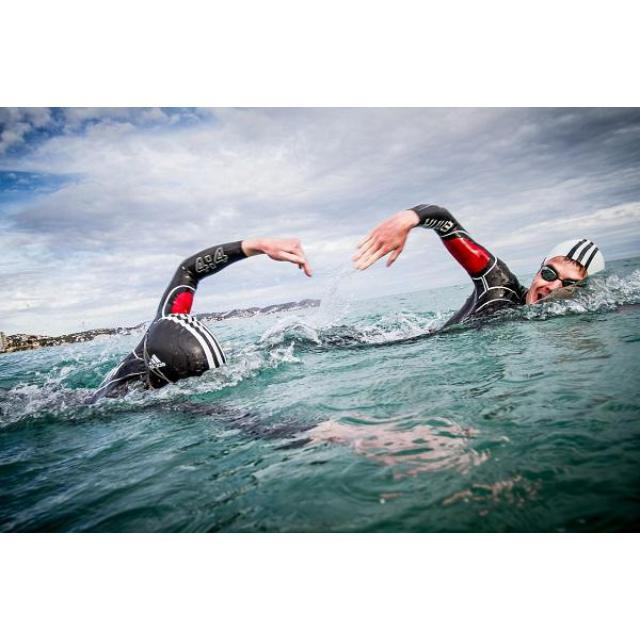human: (90, 221, 319, 423), (349, 189, 629, 351)
